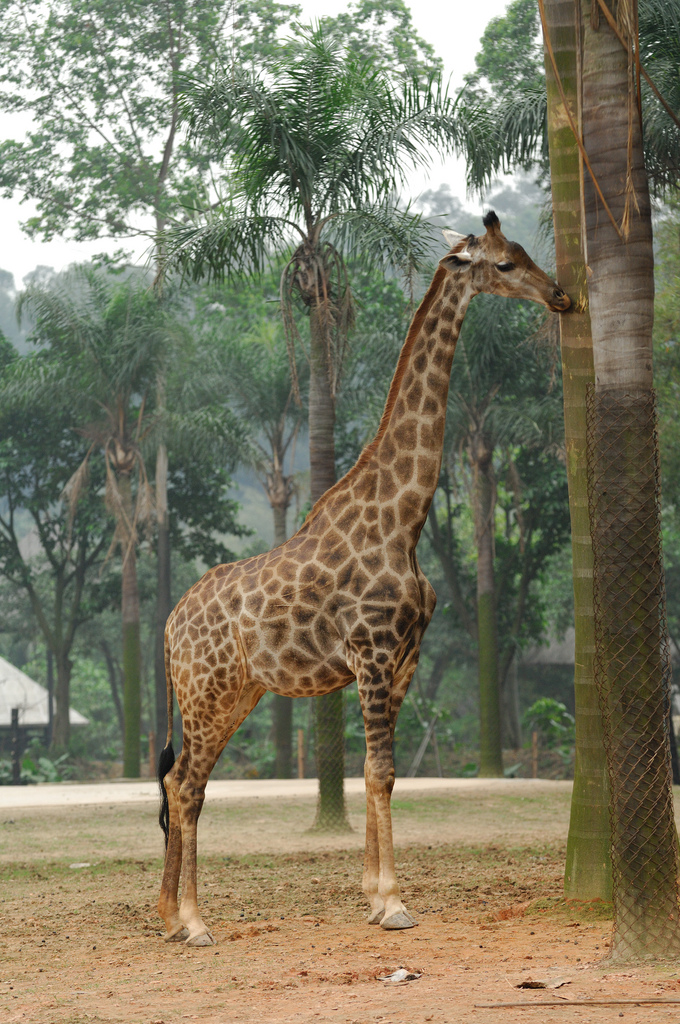giraffe: (115, 180, 587, 960)
